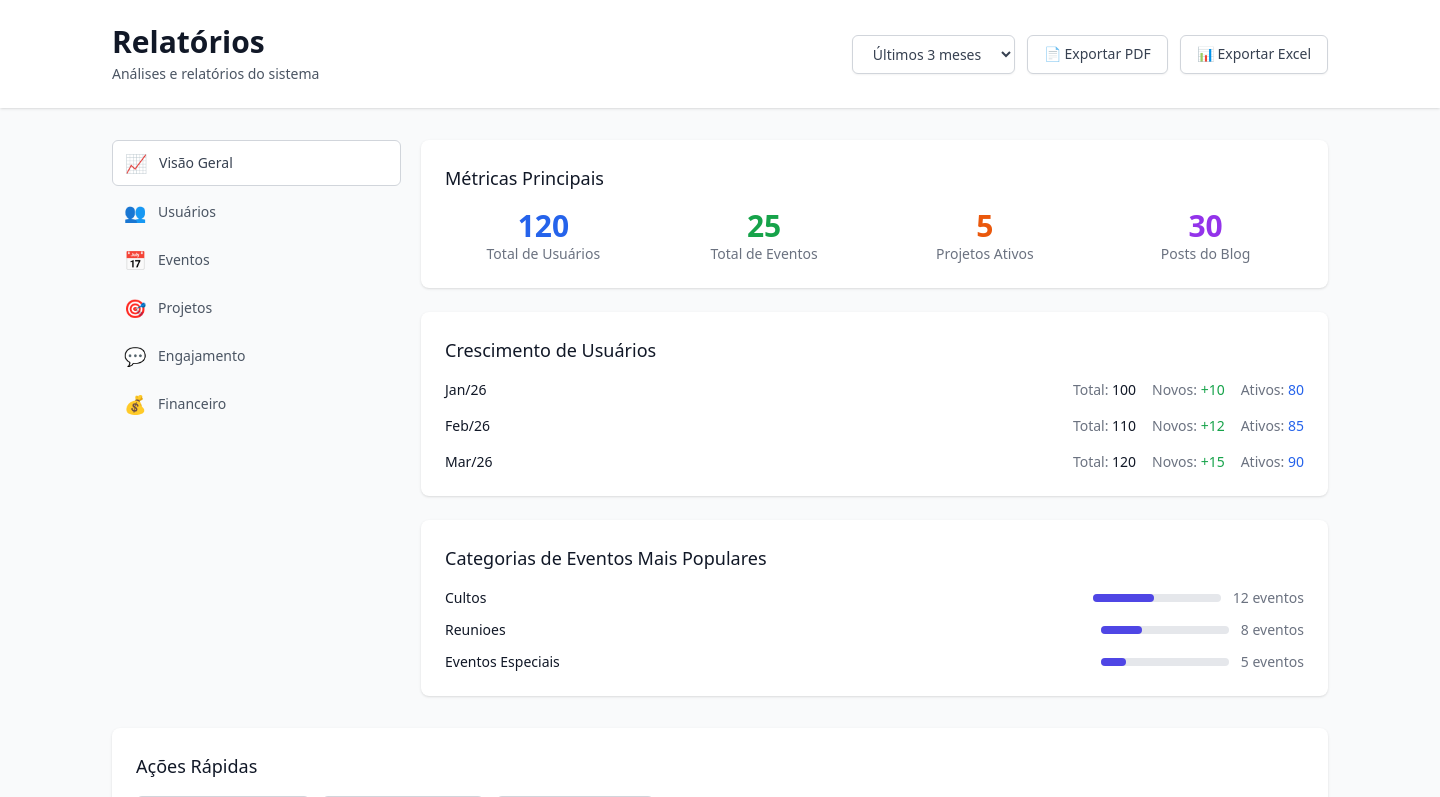
Test: AdminReportsPage › Report Type Navigation › should switch to Events report
The width and height of the screenshot is (1440, 797).
What coordinates should you click on to do the following:
click the button "📅 Eventos"
I would click on:
 (184, 260)
Its box is 112,238 -> 401,282.
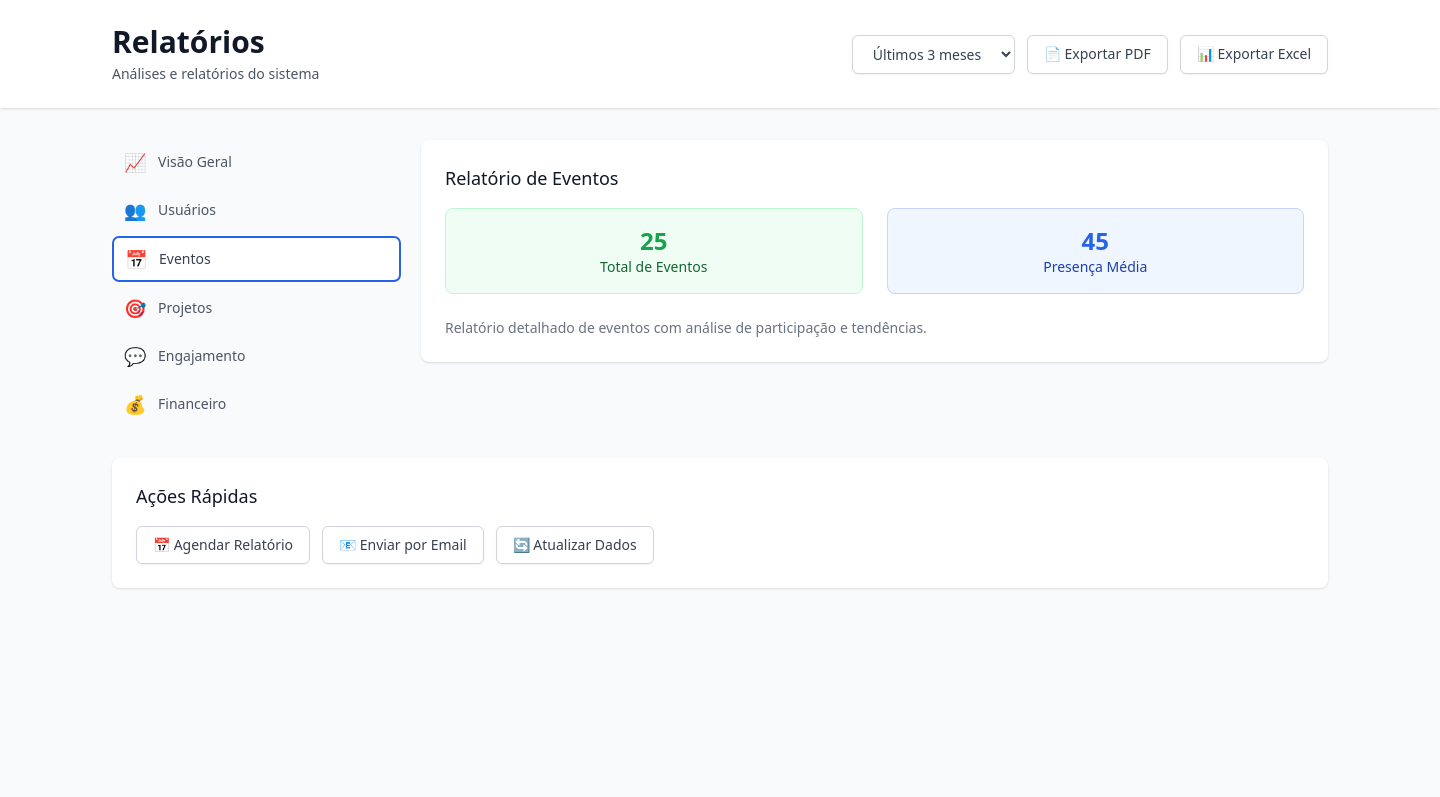
Check: the heading "Relatório de Eventos" is shown, box 445,166 -> 618,190
